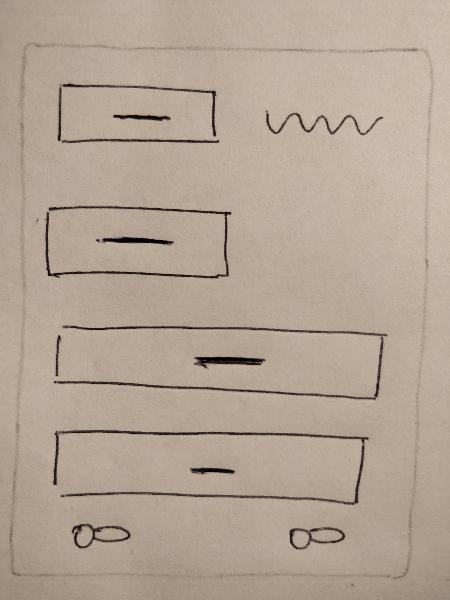button: (48, 314, 392, 408), (37, 419, 381, 513), (38, 196, 236, 280), (49, 72, 227, 157)
switch: (65, 517, 132, 556), (281, 517, 348, 556)
text: (254, 97, 390, 152)
